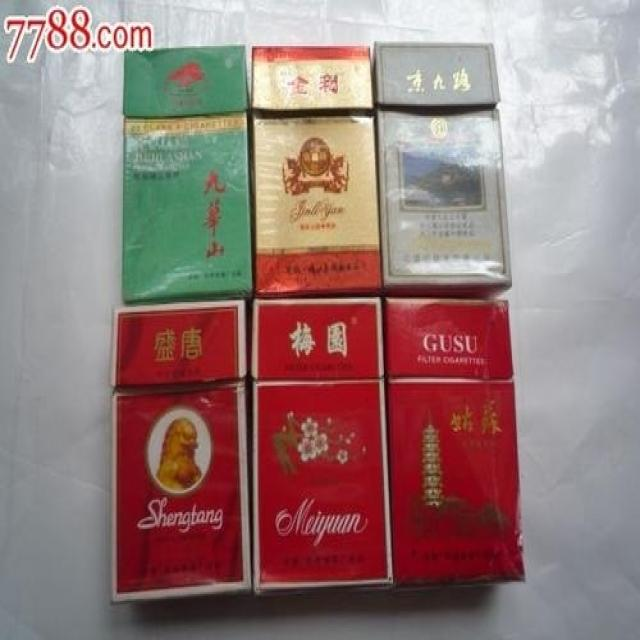box: (110, 299, 251, 608), (251, 297, 390, 597), (384, 297, 527, 587), (372, 41, 512, 299), (123, 44, 252, 304), (251, 46, 381, 294)
